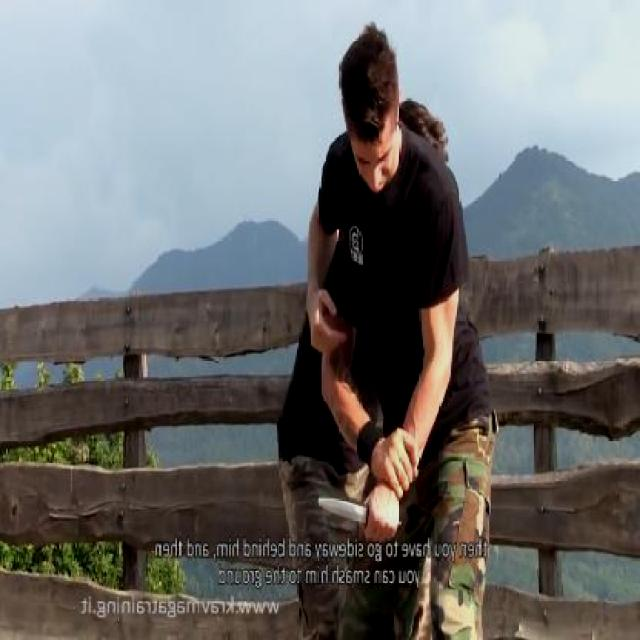knife: (311, 479, 406, 546)
